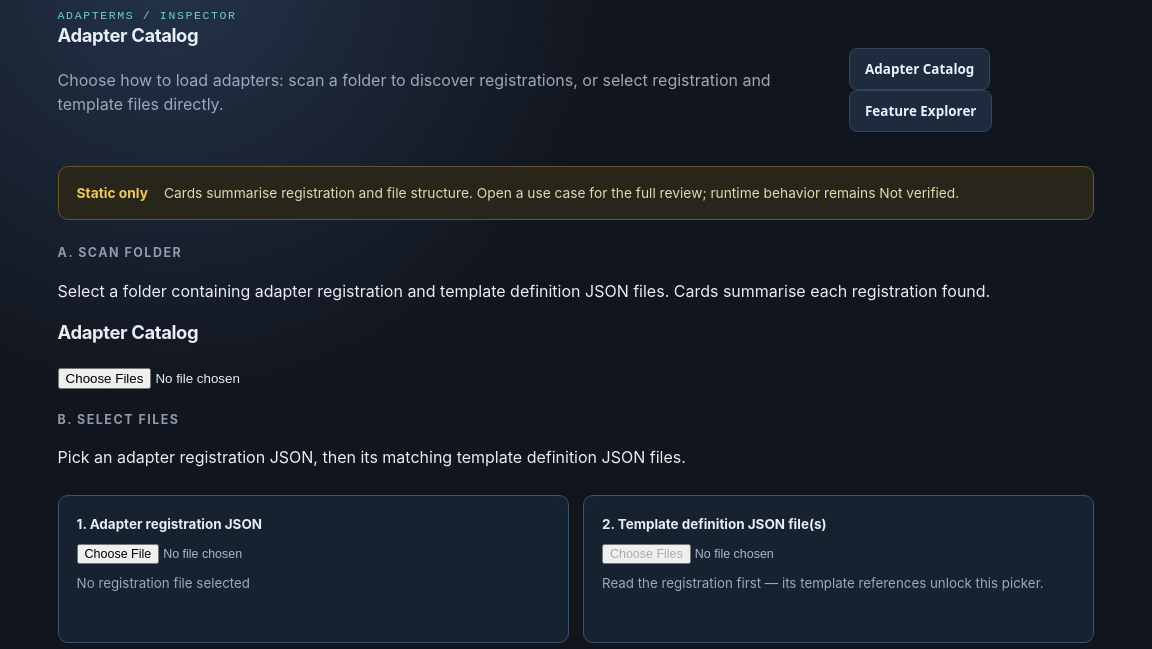
Test case: app shell › expand all expands both scenarios and preconditions
The image size is (1152, 649).
Step 1. Click the tab "Feature Explorer" → x=921, y=111, box [849,90,992,132]
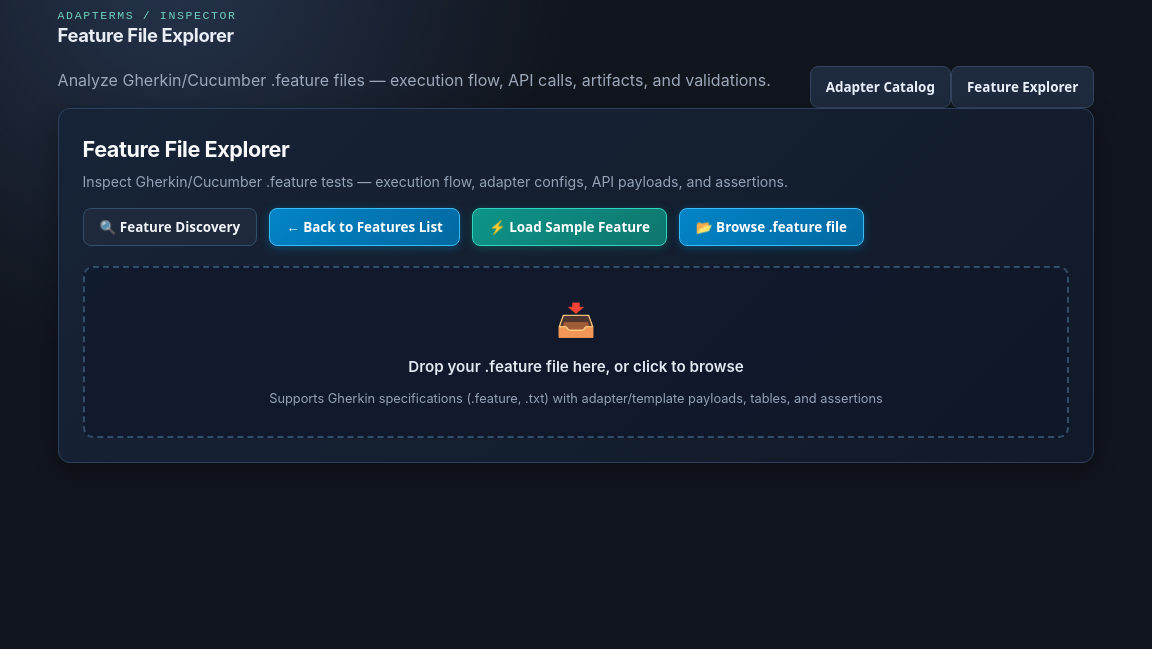
Step 2. Click the button "⚡ Load Sample Feature" → x=569, y=227, box [472,208,667,246]
(page scrolled)
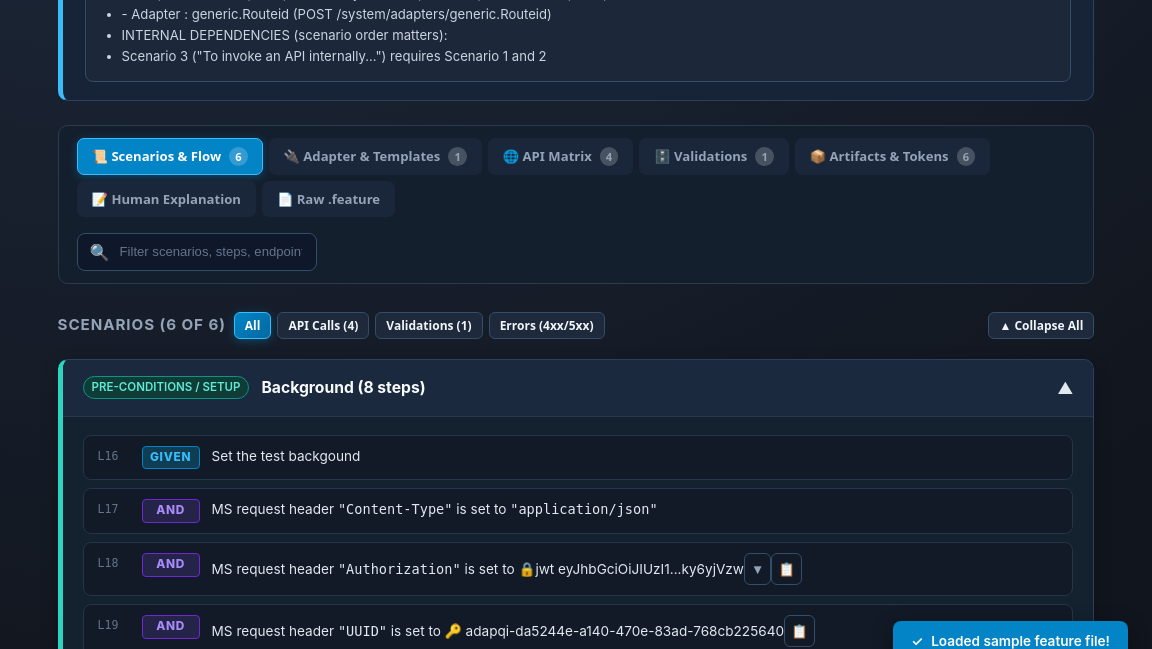
Step 3. Click the button "▲ Collapse All" → x=1041, y=325, box [988,312,1094,339]
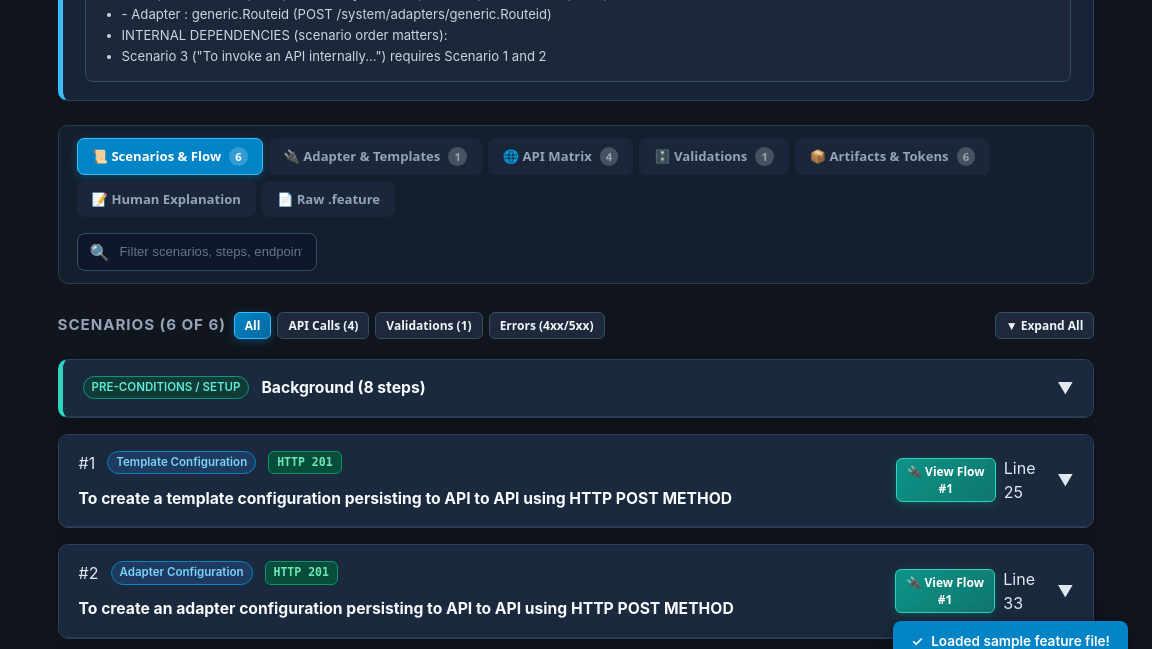
Check: the button "▼ Expand All" is shown
Step 4. Click the button "▼ Expand All" → x=1045, y=325, box [995,312,1094,339]
(page scrolled)
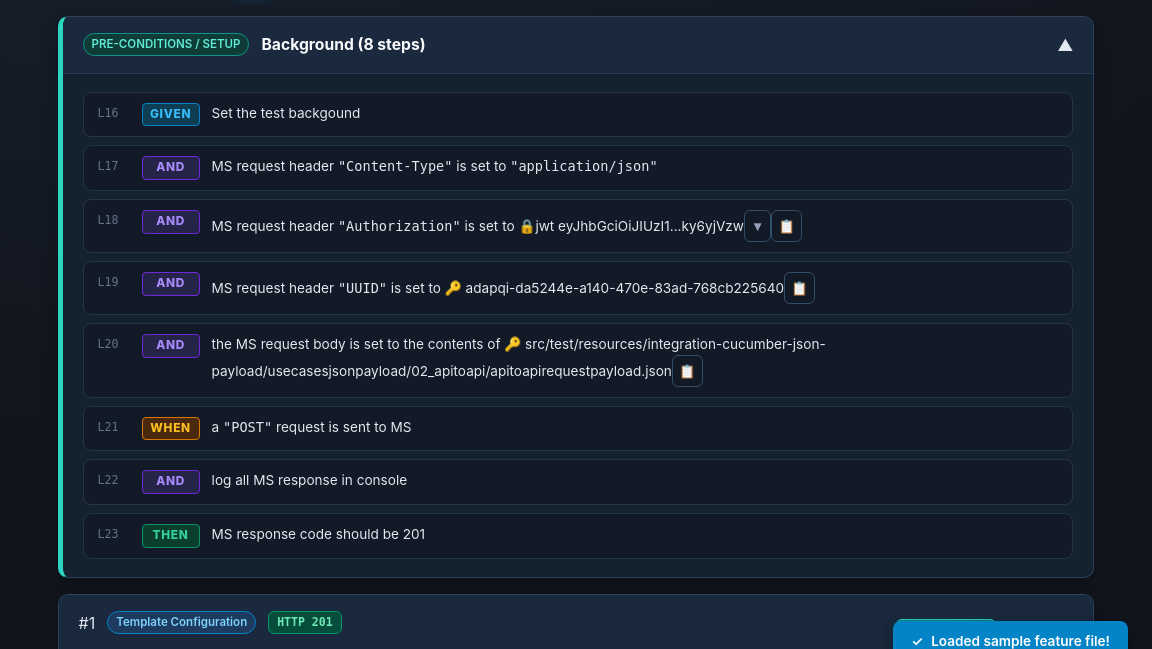
Check: the element with class "ffe-card-body" is shown
